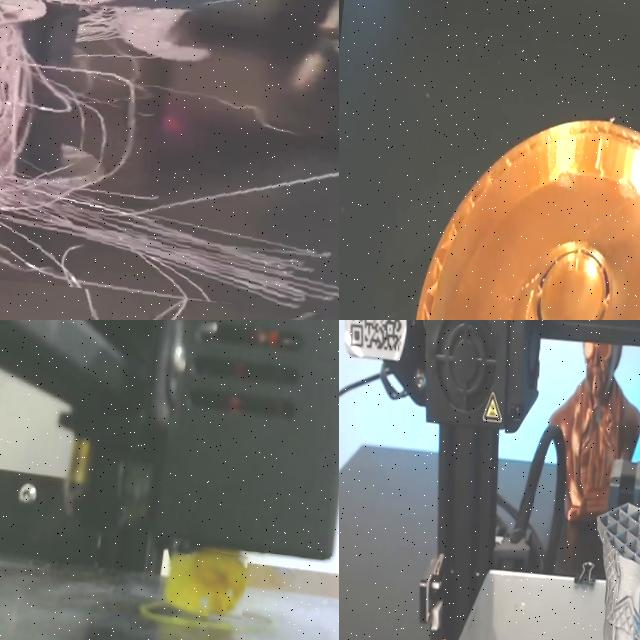spaghetti: (0, 0, 339, 315), (165, 549, 246, 616)
